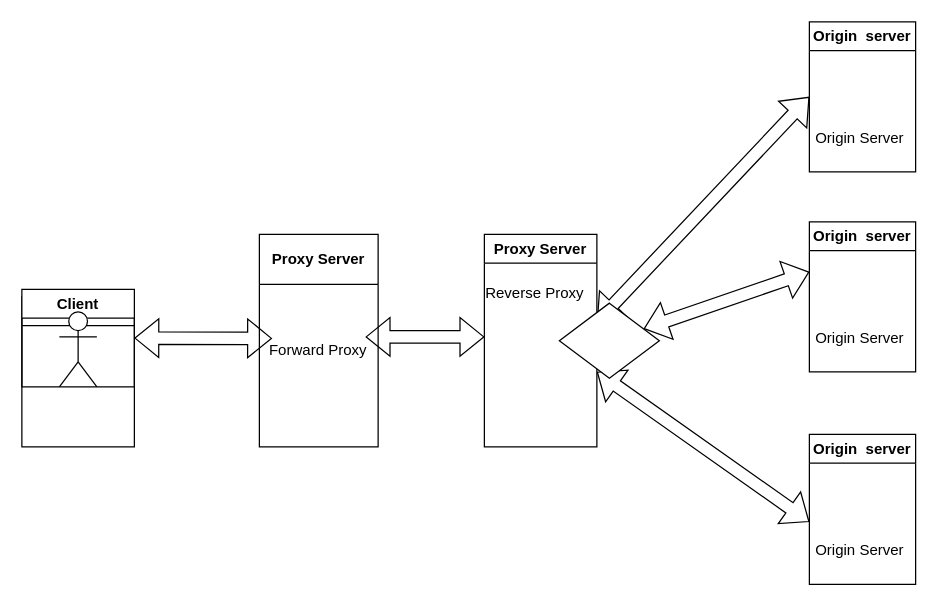
This 938x606 diagram has some shape labels left out. Here are the shapes that lost their labels. From the top down, the box of each, then its label:
(58, 311, 97, 387): User
(558, 302, 659, 378): ALB
